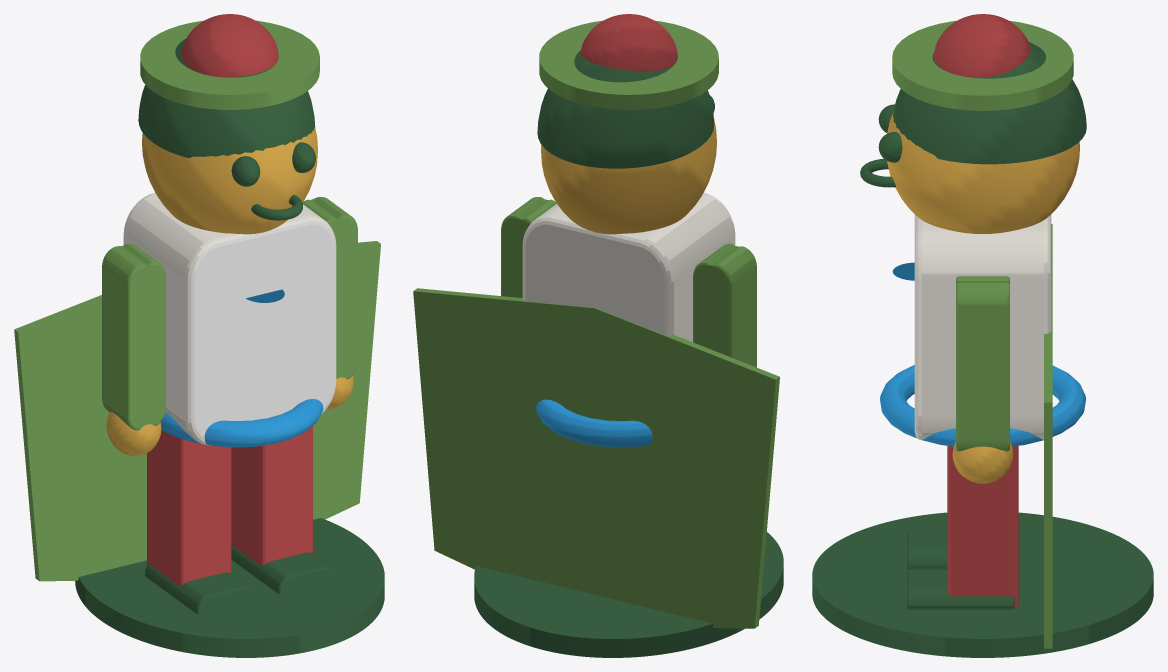
The model's file is 1109_左传_宋襄公.glb.
The picture shows the model from 3 angles, left to right: view 1: azimuth 30°, elevation 25°; view 2: azimuth 150°, elevation 25°; view 3: azimuth 270°, elevation 25°; orthographic projection.
Visible parts, largest first — view 1: card_1109; view 2: card_1109; view 3: card_1109.
Boxes of the visible parts, x1,y1,x2,y2 form: card_1109: (14,14,384,657); card_1109: (413,14,783,657); card_1109: (812,14,1153,657).
Size of the model in its own units: 0.6525 by 1 by 0.5266.
